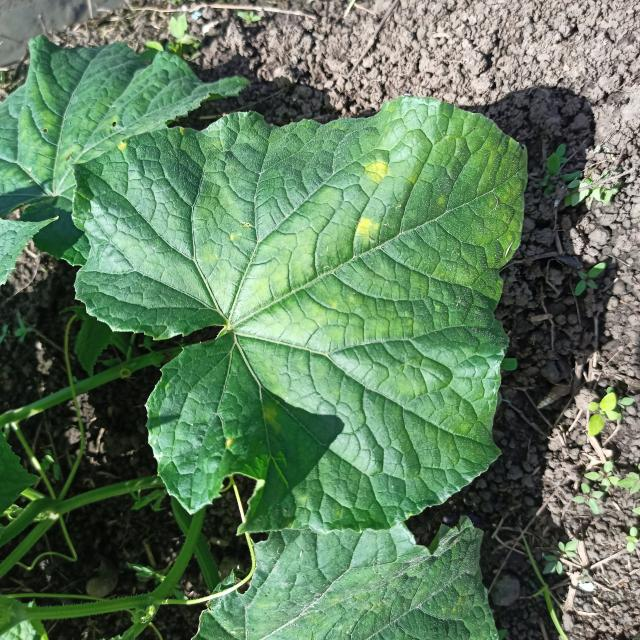disease_cucumber: (362, 159, 389, 184), (353, 215, 378, 239), (118, 142, 127, 151)
